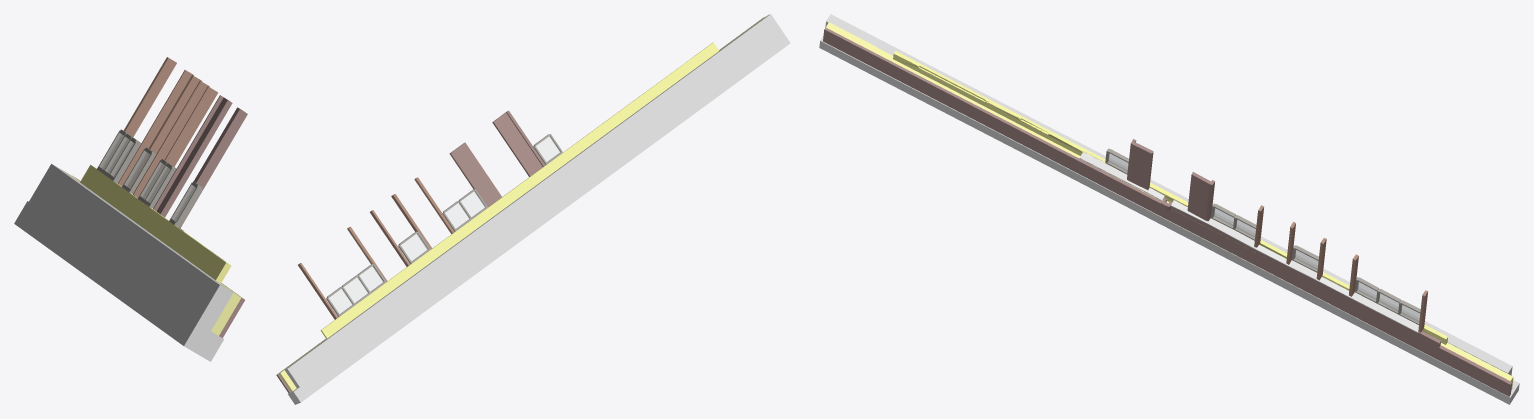
3 views of the same model, side by side, from view 1: azimuth 30°, elevation 25°; view 2: azimuth 150°, elevation 25°; view 3: azimuth 270°, elevation 25° (orthographic). The views are drawn at different scales.
Parts seen in each view (by area): view 1: mesh; view 2: mesh; view 3: mesh.
Boxes of the visible parts, left/top/right/bottom form: mesh: left=14, top=57, right=247, bottom=361; mesh: left=276, top=14, right=790, bottom=404; mesh: left=819, top=14, right=1519, bottom=404.
Size of the model in its own units: 10.68 by 9.64 by 22.02.
